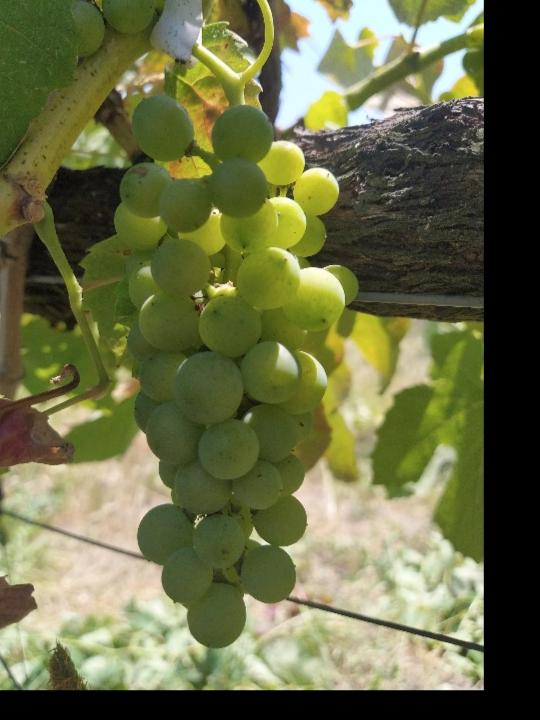grape: (113, 92, 360, 650)
